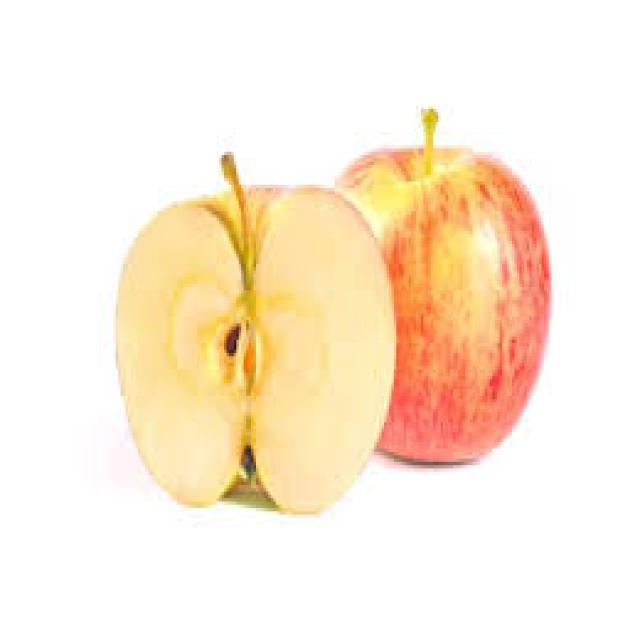apple: (332, 123, 568, 470)
